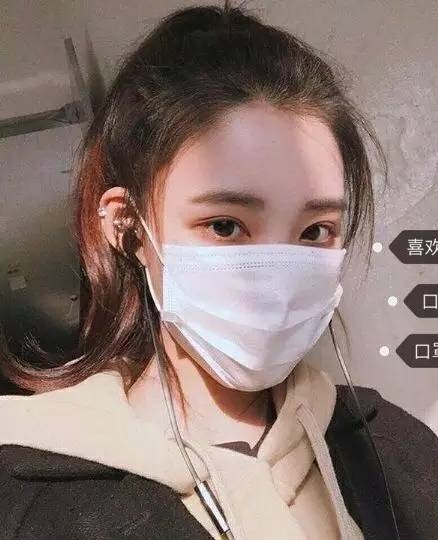face_mask: (151, 109, 351, 386)
